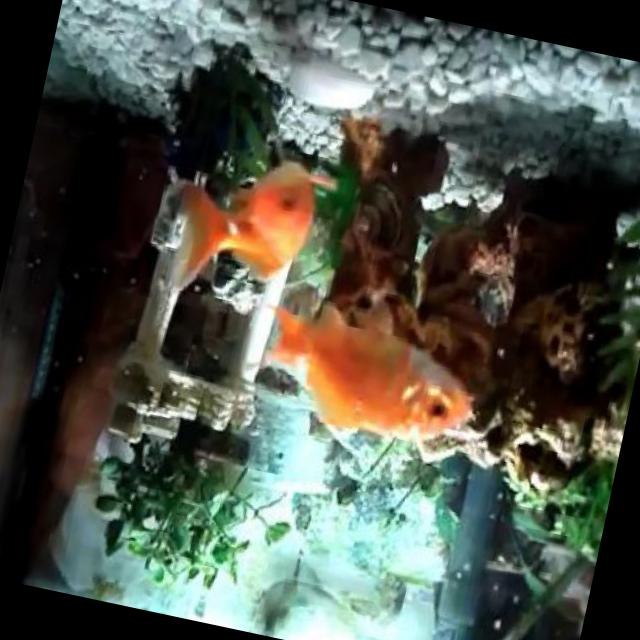GoldFish: (243, 291, 497, 470), (165, 138, 330, 292)
